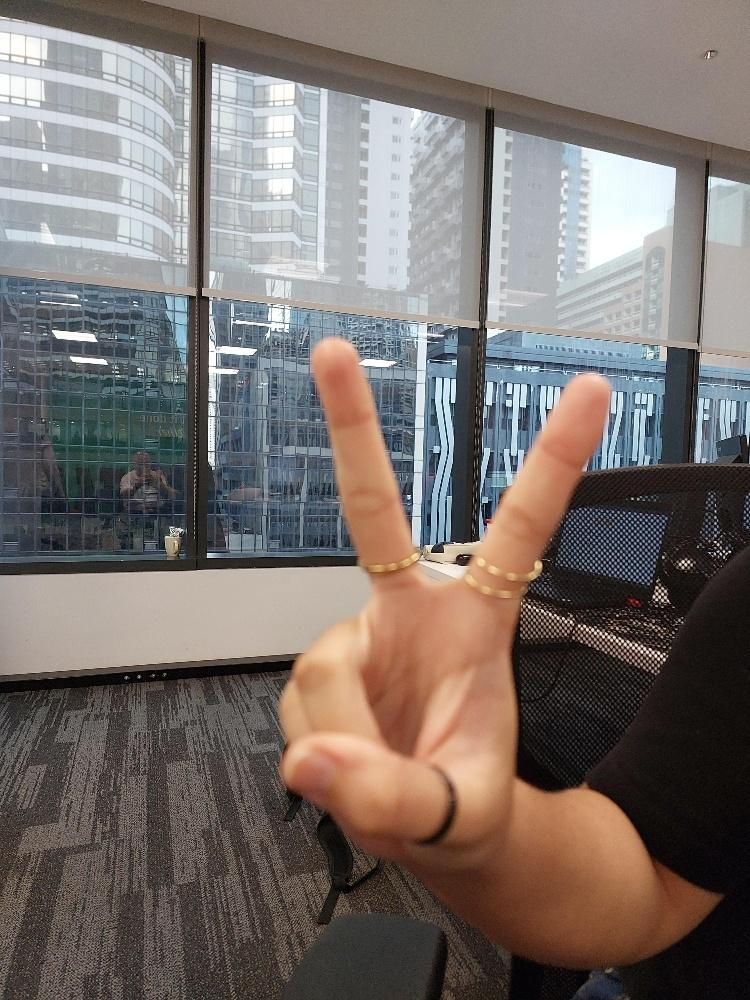v: (273, 333, 614, 881)
